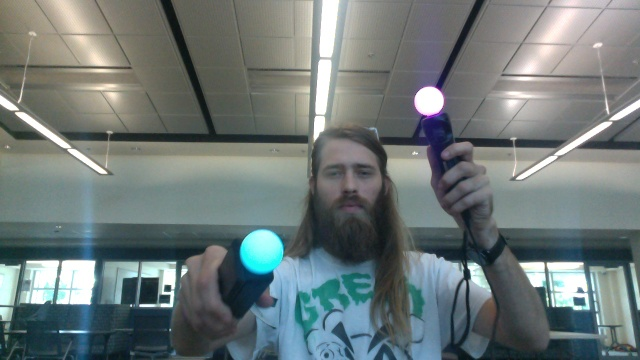wand: (241, 231, 283, 274), (414, 88, 445, 117)
